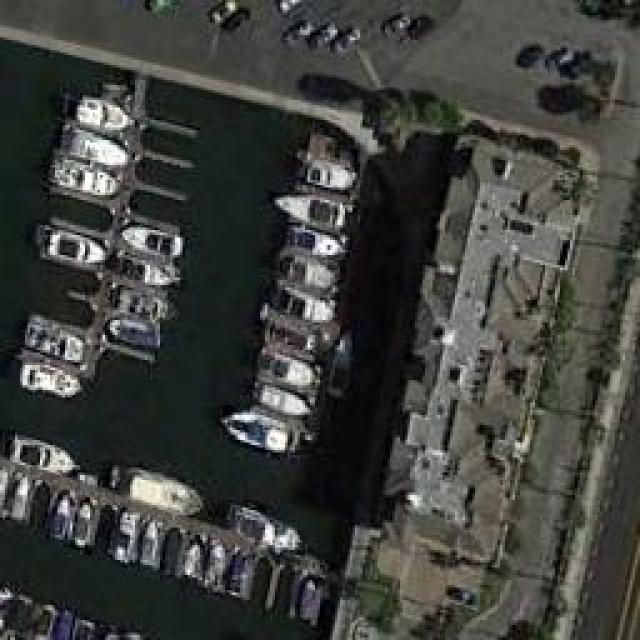Port: (12, 70, 200, 400), (218, 121, 362, 456)
